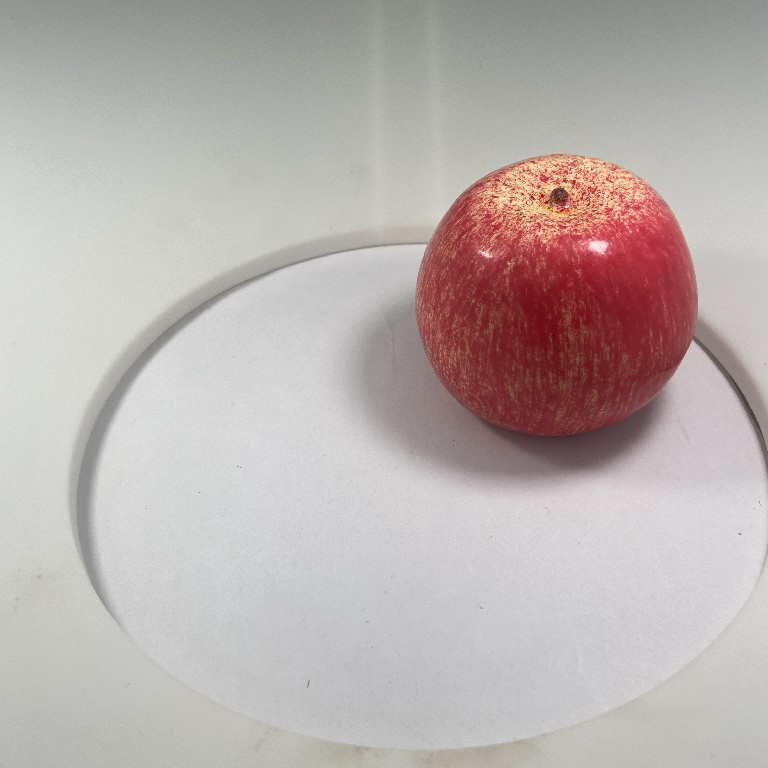fruit_apple: (412, 146, 703, 446)
